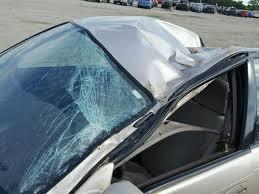Front-Windscreen-Damage: (0, 25, 85, 189)
roof-dent: (93, 21, 236, 84)
